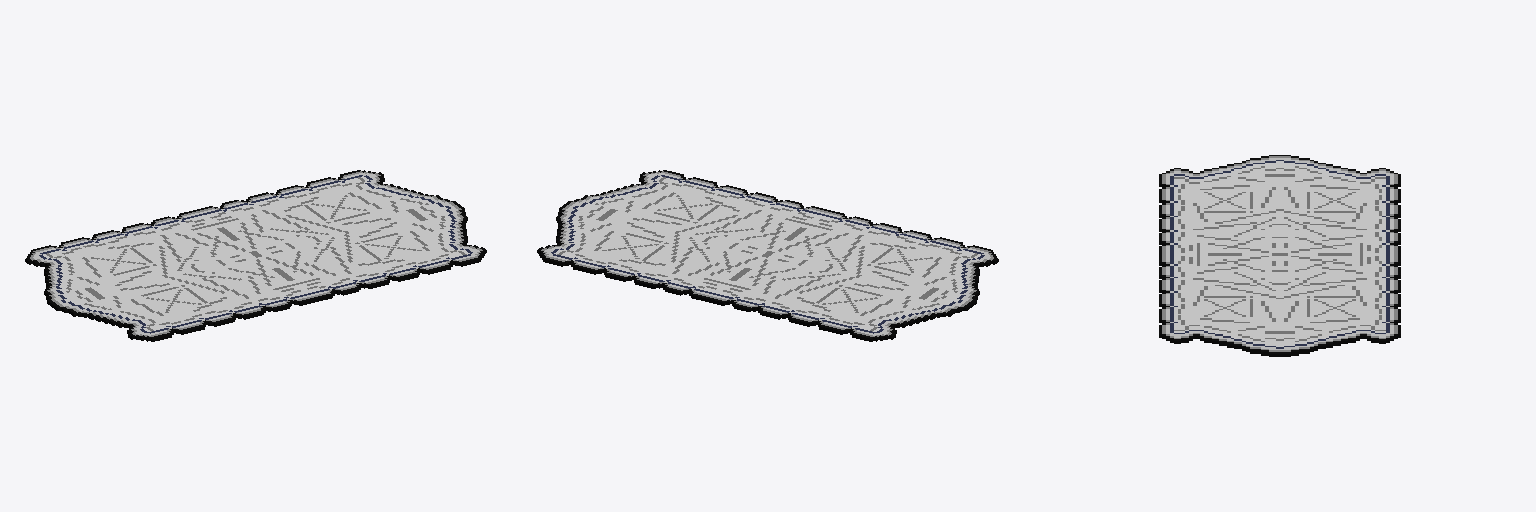
The picture shows the model from 3 angles: view 1: azimuth 30°, elevation 25°; view 2: azimuth 150°, elevation 25°; view 3: azimuth 270°, elevation 25°; orthographic projection.
Parts seen in each view (by area): view 1: Podnos; view 2: Podnos; view 3: Podnos.
Boxes of the visible parts, <box> form: Podnos: <box>25,170,486,341</box>; Podnos: <box>537,170,998,341</box>; Podnos: <box>1159,155,1400,356</box>.
Size of the model in its own units: 124 by 1 by 64.
1 materials, 1 textured.